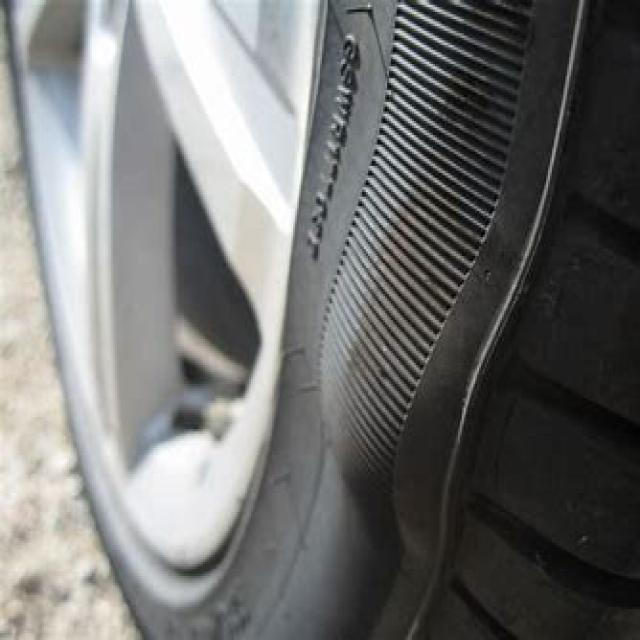Bulge: (304, 207, 522, 574)
